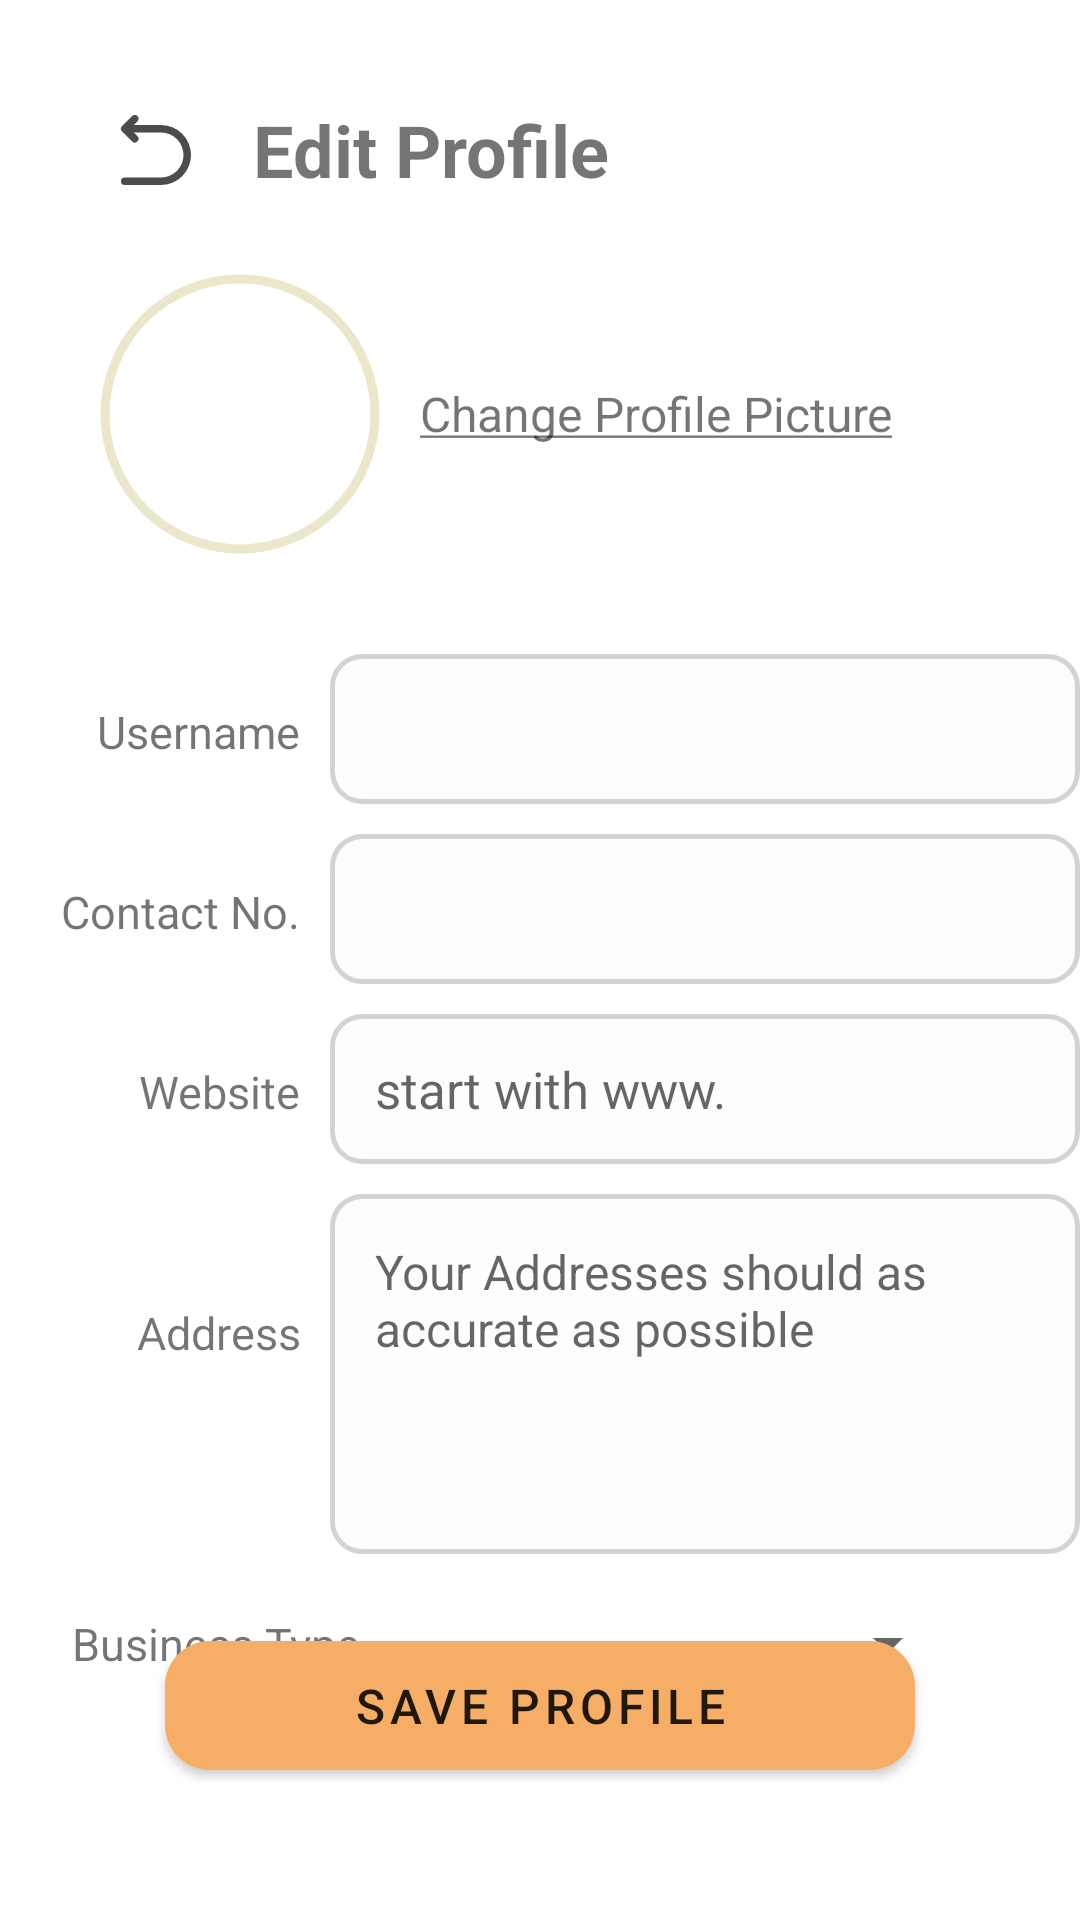

Screen size 1080 x 1920. Icon name, then its center in pixels as [x,y]:
back arrow: [155,150]
